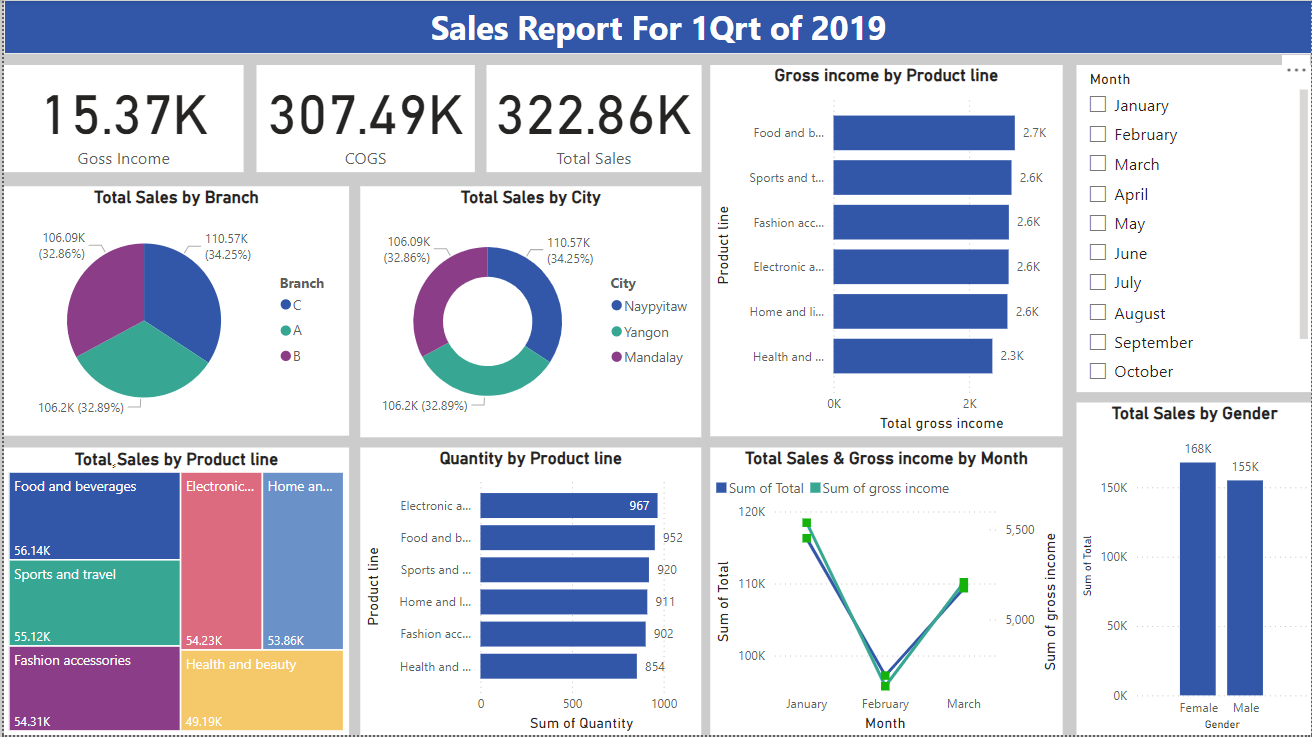

Layout of this report page (visuals, bound fields, positions):
{"tool":"powerbi","page":{"name":"Page 1","canvas":[1280,720],"ordinal":0},"visuals":[{"type":"card","fields":{"Values":["Sum(supermarket_sales.gross income)"]},"box":[0,63.6,234.8,105.2],"z":0},{"type":"card","fields":{"Values":["Sum(supermarket_sales.Total)"]},"box":[472,63.6,210.3,105.2],"z":1000},{"type":"card","fields":{"Values":["Sum(supermarket_sales.cogs)"]},"box":[246.4,63.6,214,105.2],"z":2000},{"type":"pieChart","title":"Total Sales by Branch","fields":{"Category":["supermarket_sales.Branch"],"Y":["Sum(supermarket_sales.Total)"]},"box":[0,182.2,337.4,243.9],"z":3000},{"type":"donutChart","title":"Total Sales by City","fields":{"Category":["supermarket_sales.City"],"Y":["Sum(supermarket_sales.Total)"]},"box":[348.5,182.2,333.8,245.8],"z":4000},{"type":"treemap","title":"Total ٍSales by Product line","fields":{"Group":["supermarket_sales.Product line"],"Values":["Sum(supermarket_sales.Total)"]},"box":[0,437.5,337.5,282.5],"z":5000},{"type":"columnChart","title":"Total Sales by Gender","fields":{"Category":["supermarket_sales.Gender"],"Y":["Sum(supermarket_sales.Total)"]},"box":[1049.2,393.8,231.1,326.5],"z":6000},{"type":"slicer","fields":{"Values":["supermarket_sales.Date.Variation.Date Hierarchy.Month"]},"box":[1049.2,63.6,231.1,320.4],"z":7000},{"type":"lineChart","title":"Total Sales & Gross income by Month","fields":{"Y":["Sum(supermarket_sales.Total)"],"Category":["supermarket_sales.Date.Variation.Date Hierarchy.Month"],"Y2":["Sum(supermarket_sales.gross income)"]},"box":[690.9,437.8,344.8,282.5],"z":8000},{"type":"clusteredBarChart","title":"Gross income by Product line","fields":{"Category":["supermarket_sales.Product line"],"Y":["Sum(supermarket_sales.gross income)"]},"box":[690.9,63.6,344.8,363.2],"z":9000},{"type":"clusteredBarChart","title":"Quantity by Product line","fields":{"Category":["supermarket_sales.Product line"],"Y":["Sum(supermarket_sales.Quantity)"]},"box":[348.5,437.8,333.8,282.5],"z":10000},{"type":"textbox","box":[0,0,1280.3,52.6],"z":11000}]}

Visuals, with their boxes in screenshot pixels (x1, y1, x2, y2), scaled from the page's 1280x720 canvas onto the 1312x737 screenshot:
card - Sum(supermarket_sales.gross income): box(0, 65, 241, 173)
card - Sum(supermarket_sales.Total): box(484, 65, 699, 173)
card - Sum(supermarket_sales.cogs): box(253, 65, 472, 173)
"Total Sales by Branch" pieChart: box(0, 187, 346, 436)
"Total Sales by City" donutChart: box(357, 187, 699, 438)
"Total ٍSales by Product line" treemap: box(0, 448, 346, 736)
"Total Sales by Gender" columnChart: box(1075, 403, 1311, 736)
slicer - supermarket_sales.Date.Variation.Date Hierarchy.Month: box(1075, 65, 1311, 393)
"Total Sales & Gross income by Month" lineChart: box(708, 448, 1062, 736)
"Gross income by Product line" clusteredBarChart: box(708, 65, 1062, 437)
"Quantity by Product line" clusteredBarChart: box(357, 448, 699, 736)
textbox: box(0, 0, 1311, 54)
